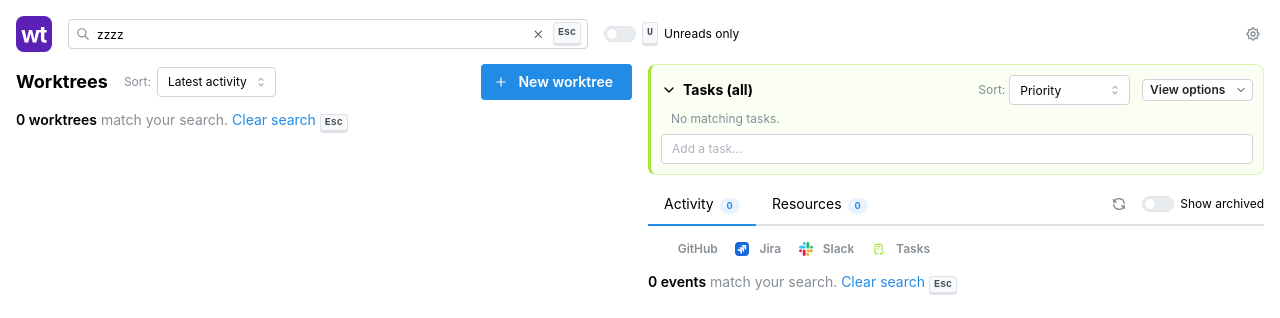
Scenario: HomePage search › clearing restores everything and removes q
This screenshot has width=1280, height=318.
Click the button named "Clear search" at (538, 34), box [529,25,547,43]
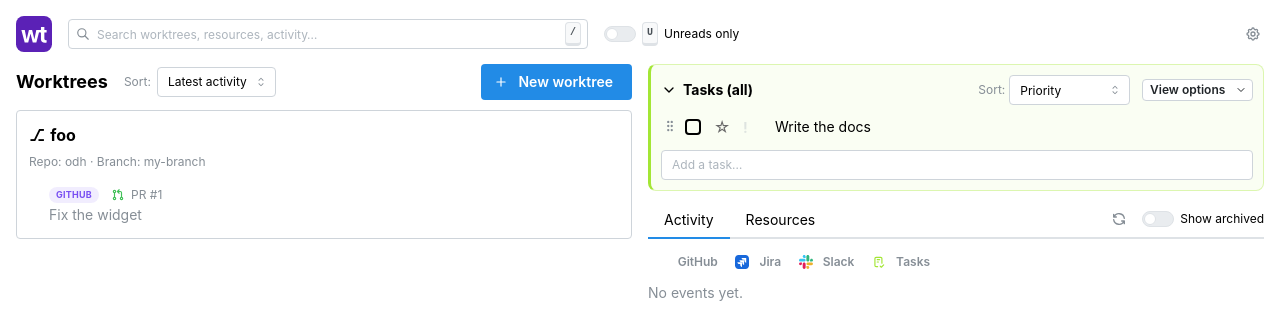
Expected: the text "Repo: odh · Branch: my-branch" is shown, [29,154,206,169]
